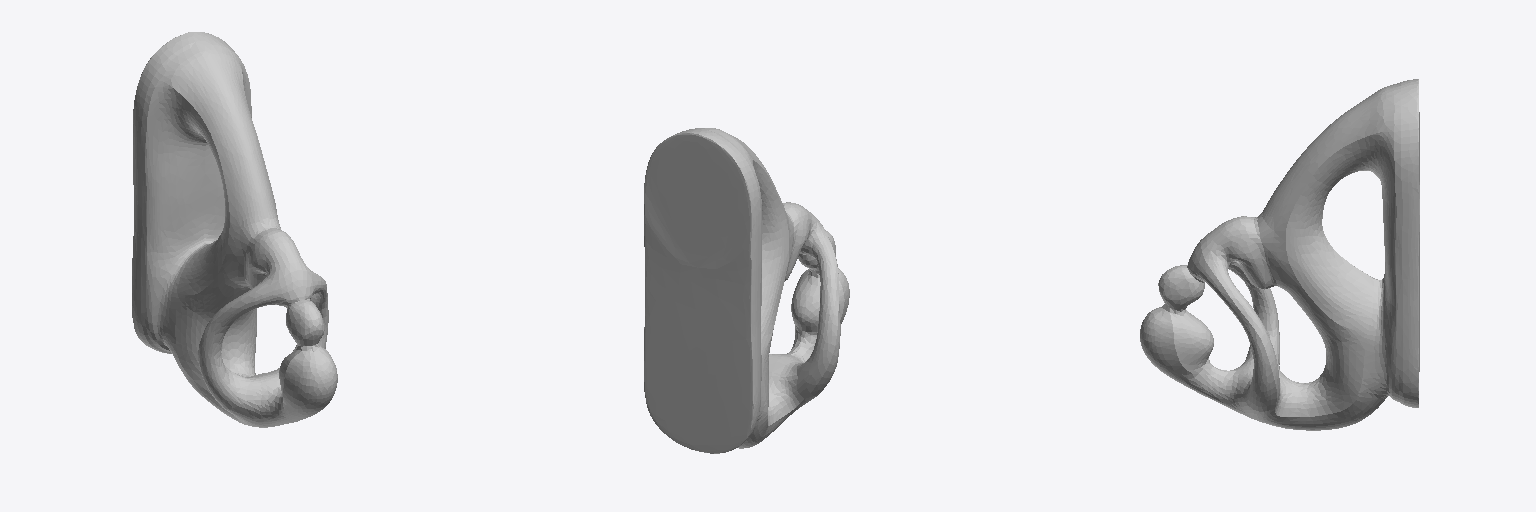
Rendered from MotherAndChild10k.obj.
3 renders of one model, left to right at view 1: azimuth 30°, elevation 25°; view 2: azimuth 150°, elevation 25°; view 3: azimuth 270°, elevation 25°, orthographic.
Size of the model in its own units: 1164 by 3036 by 2237.